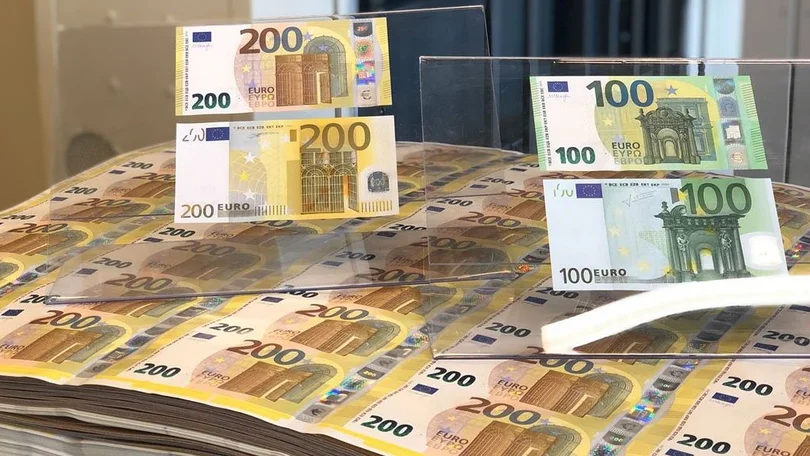Nota de 100€: (535, 177, 793, 294), (525, 72, 773, 173)
Nota de 200€: (168, 125, 402, 228), (168, 23, 398, 117)
